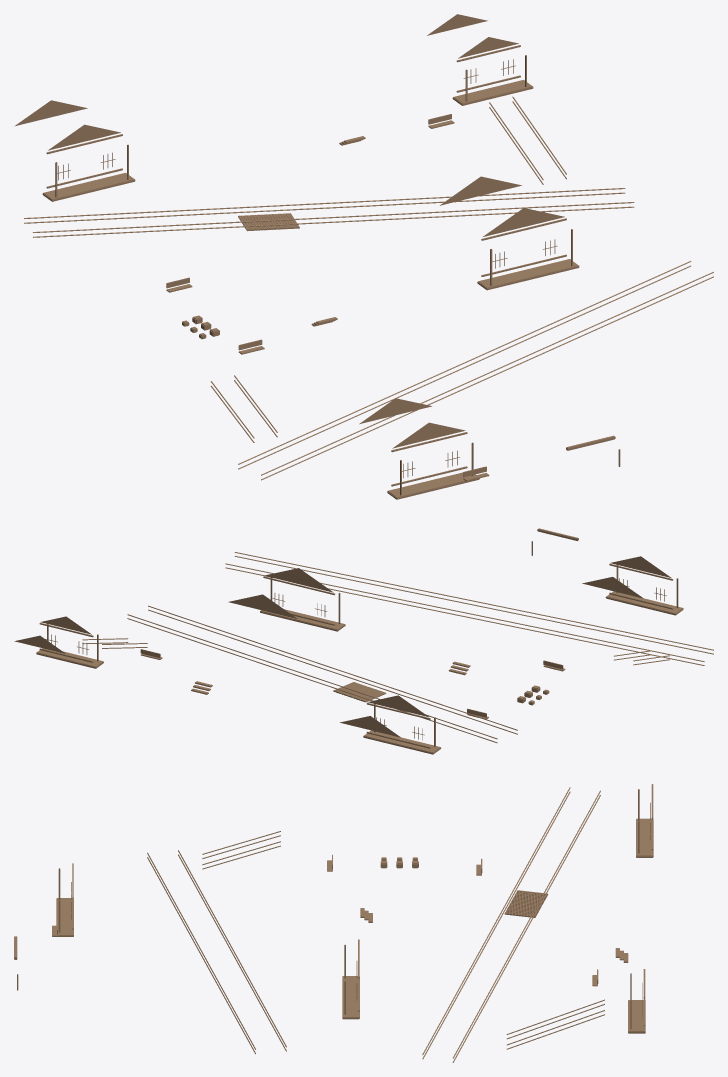
The model's file is SM_Cedar.fbx.
3 renders of one model, top to bottom at view 1: azimuth 30°, elevation 25°; view 2: azimuth 150°, elevation 25°; view 3: azimuth 270°, elevation 25°, orthographic. The views are drawn at different scales.
Visible parts, largest first — view 1: SM_Cedar; view 2: SM_Cedar; view 3: SM_Cedar.
Boxes of the visible parts, x1,y1,x2,y2 form: SM_Cedar: (14,14,713,499); SM_Cedar: (14,528,713,754); SM_Cedar: (14,784,653,1062).
Bounding box in the file's own units: 5817 × 7127 × 1376.
